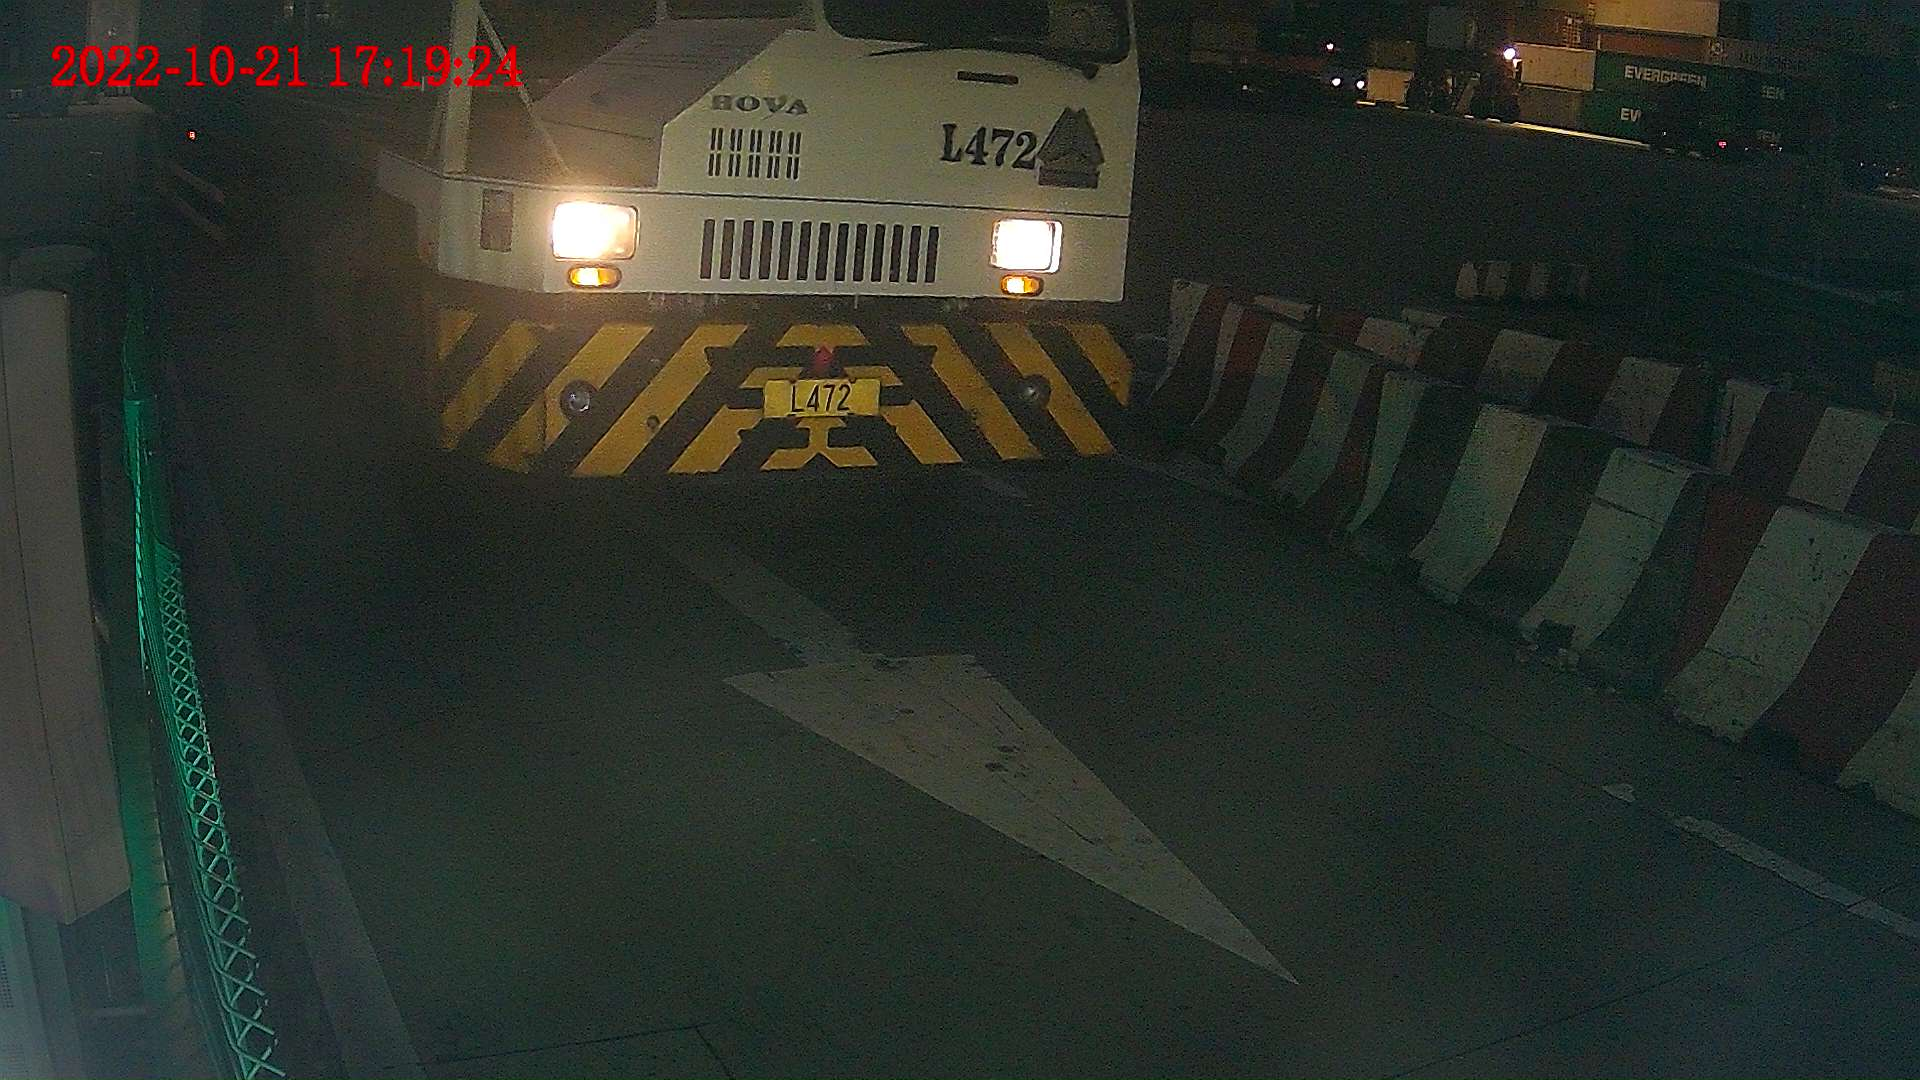head: (338, 1, 1143, 513)
plate: (767, 381, 874, 411)
